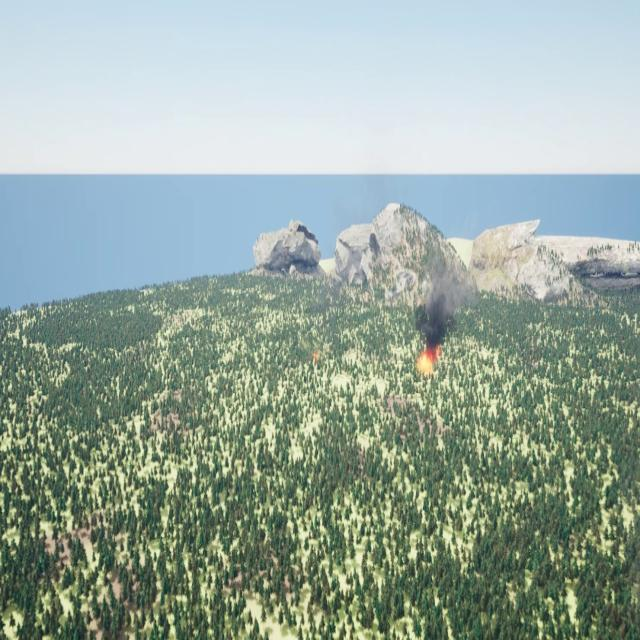fire: (416, 346, 443, 370)
smoke: (416, 267, 476, 343)
